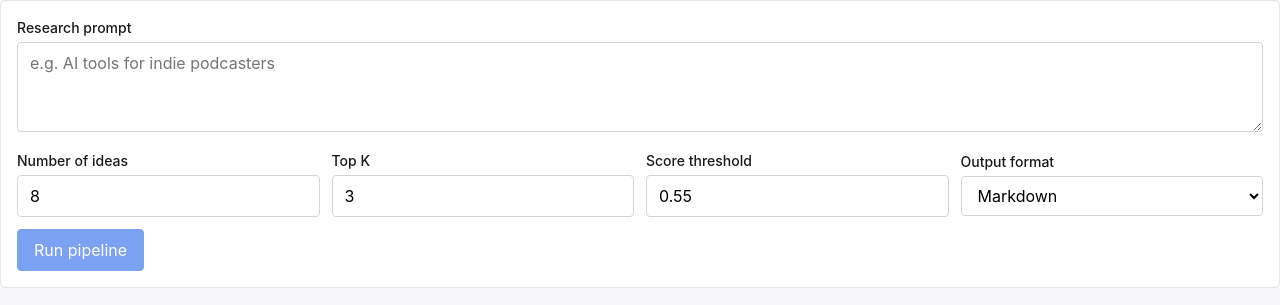
JobForm › disables the submit button until a research prompt is entered
Expected: the button "Run pipeline" is disabled, [17,229,144,271]
Type "AI tools for podcasters" into the text box labelled "Research prompt".
click(640, 87); type("AI tools for podcasters")  # box [17,42,1263,132]
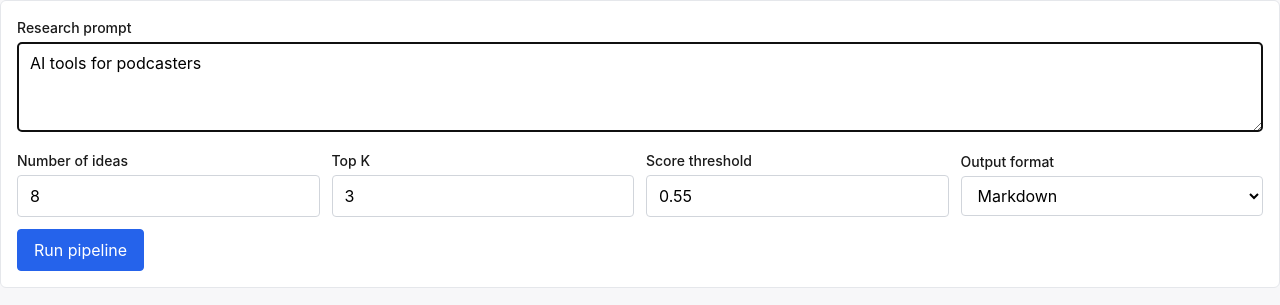
Result: the button "Run pipeline" is enabled at [17,229,144,271]
